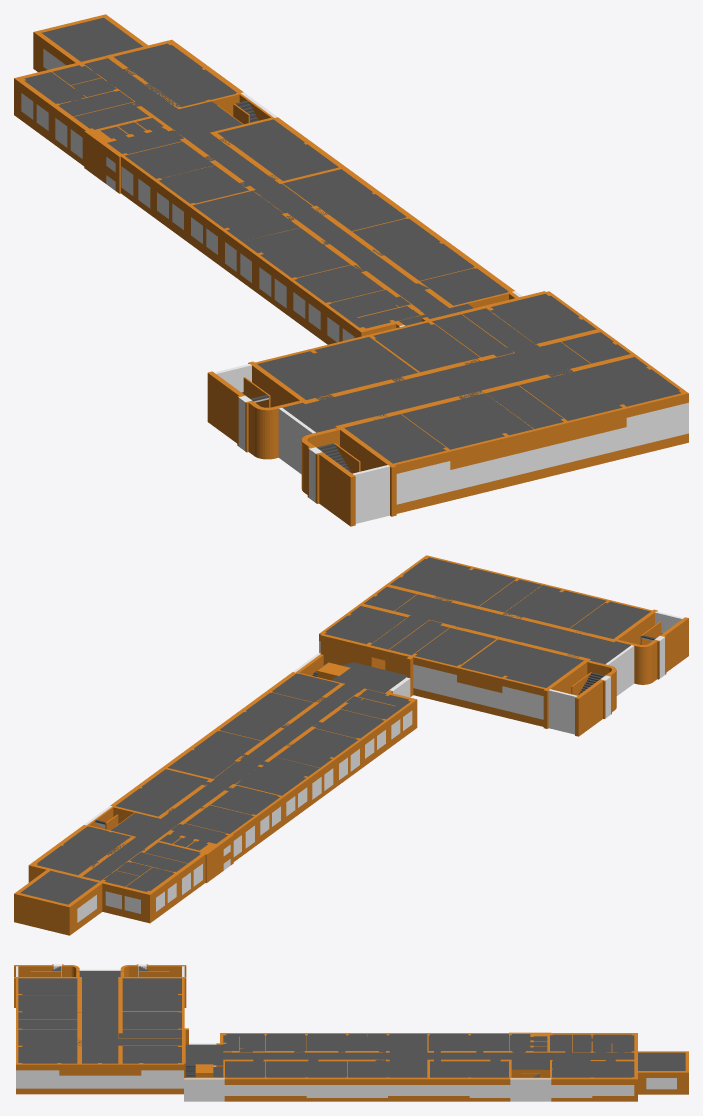
The picture shows the model from 3 angles, top to bottom: view 1: azimuth 30°, elevation 25°; view 2: azimuth 150°, elevation 25°; view 3: azimuth 270°, elevation 25°; orthographic projection. The views are drawn at different scales.
Parts seen in each view (by area): view 1: 3.093, 2.1304, 0.094, 2.1025, 1.973, 2.1028, 1.976, 2.1027, 1.961, 2.1014, 2.870, 2.1303 (+8 smaller); view 2: 3.093, 2.1304, 0.084, 0.094, 2.875, 2.1027, 0.093, 1.975, 1.1007, 2.1026, 2.1025, 1.959 (+7 smaller); view 3: 3.093, 2.1304, 1.980, 1.985, 0.094, 1.982, 0.093, 1.960, 0.084, 1.984, 1.983, 1.981 (+35 smaller).
Part boxes in pixels (x1,y1,x2,y2): 3.093: [24, 43, 508, 328]; 2.1304: [257, 294, 680, 463]; 0.094: [42, 17, 142, 61]; 2.1025: [315, 452, 355, 526]; 1.973: [626, 403, 685, 448]; 2.1028: [245, 400, 284, 459]; 1.976: [352, 465, 389, 523]; 2.1027: [207, 371, 244, 446]; 1.961: [396, 461, 450, 504]; 2.1014: [84, 115, 169, 183]; 2.870: [335, 425, 396, 516]; 2.1303: [278, 408, 315, 474]; 3.093: [37, 673, 410, 891]; 2.1304: [325, 557, 650, 687]; 0.084: [14, 870, 102, 935]; 0.094: [20, 871, 97, 904]; 2.875: [320, 633, 373, 667]; 2.1027: [575, 679, 605, 736]; 0.093: [331, 663, 406, 693]; 1.975: [548, 689, 577, 734]; 1.1007: [413, 664, 456, 698]; 2.1026: [629, 639, 659, 684]; 2.1025: [660, 617, 688, 674]; 1.959: [502, 686, 543, 719]; 3.093: [223, 1034, 634, 1077]; 2.1304: [18, 971, 181, 1063]; 1.980: [510, 1078, 551, 1101]; 1.985: [184, 1078, 224, 1101]; 0.094: [638, 1052, 685, 1070]; 1.982: [16, 1070, 59, 1088]; 0.093: [185, 1044, 223, 1065]; 1.960: [141, 1070, 183, 1088]; 0.084: [638, 1051, 688, 1094]; 1.984: [100, 1075, 141, 1088]; 1.983: [59, 1075, 99, 1088]; 1.981: [551, 1085, 592, 1097].
Bounding box in the file's own units: 34.86 × 99.13 × 6.2.
